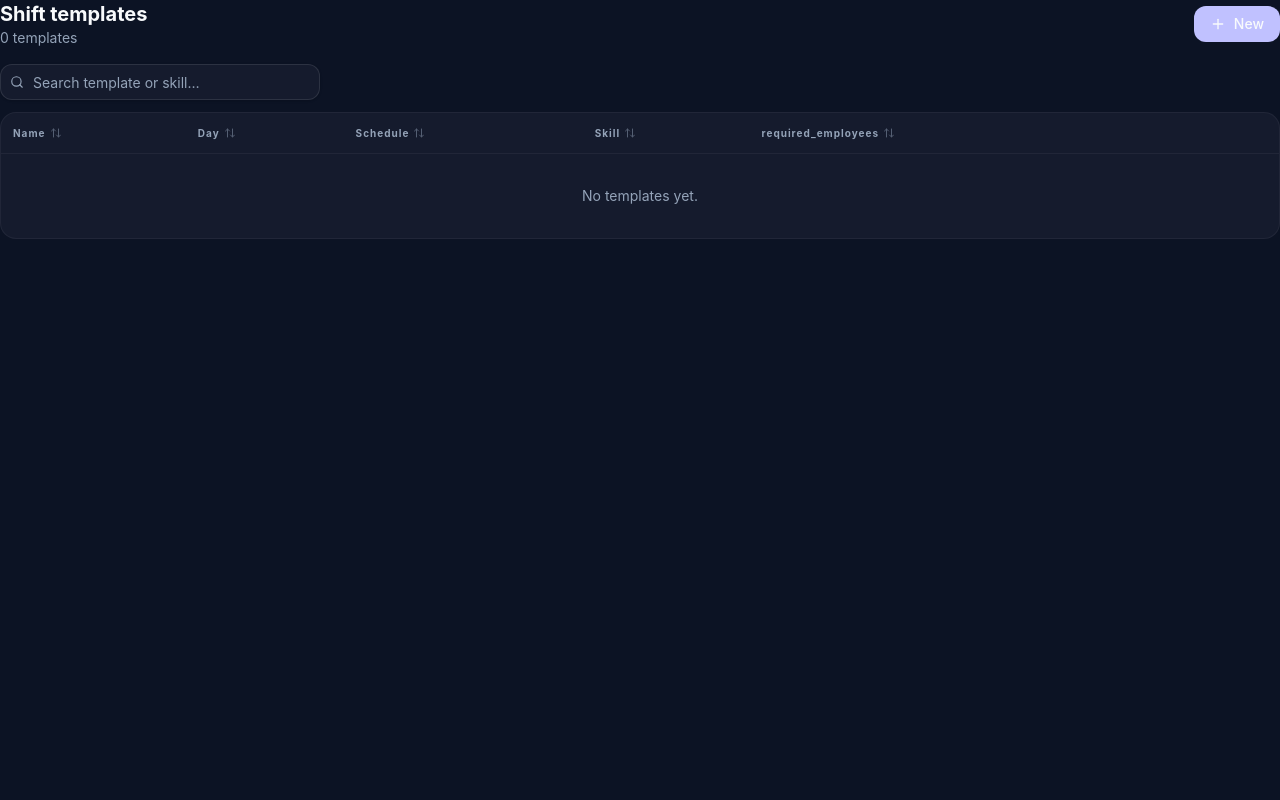
Test case: TemplatesPage › crea un template end-to-end
Check: the text "No templates yet." is shown, box [1, 153, 1279, 238]
Click the button with test id "new-template-btn".
click(1237, 24)  # box [1194, 6, 1279, 42]
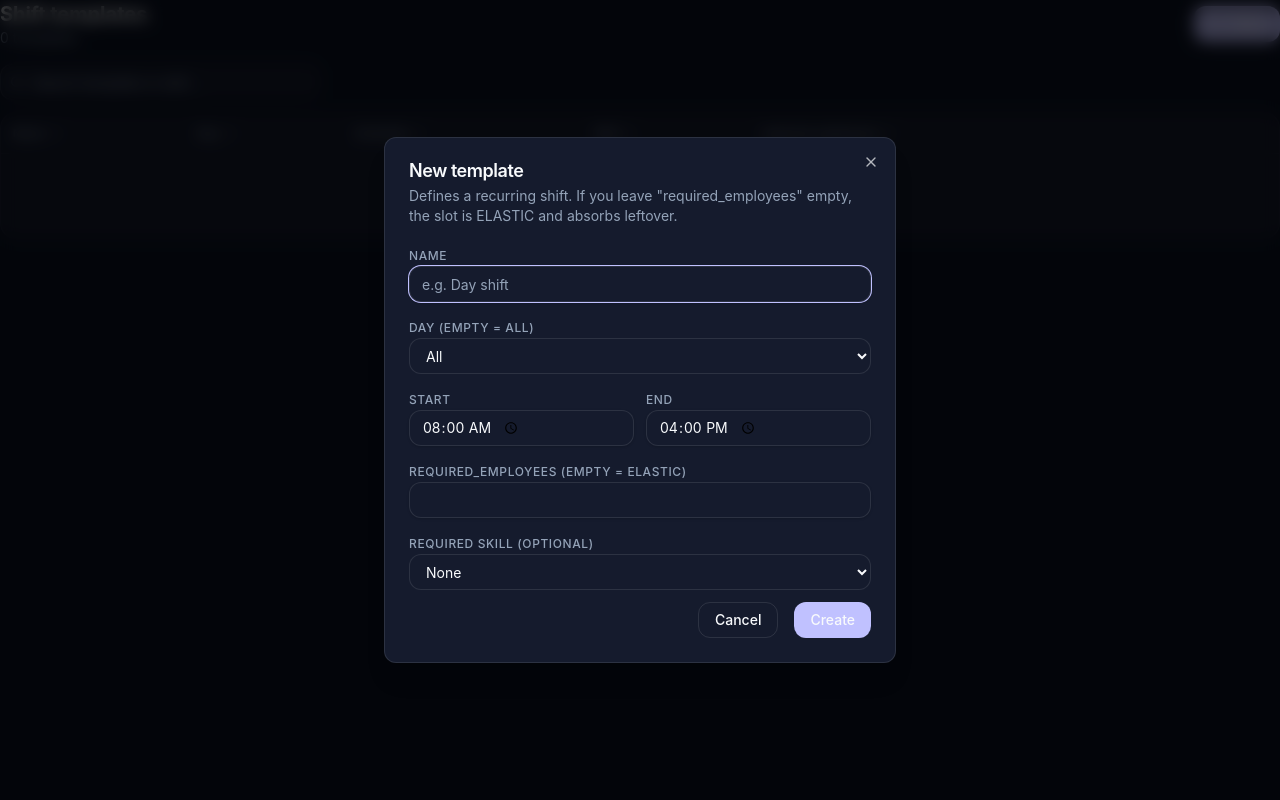
Type "Apertura" into the field with test id "t-name-input".
click(640, 284); type("Apertura")  # box [409, 266, 871, 302]
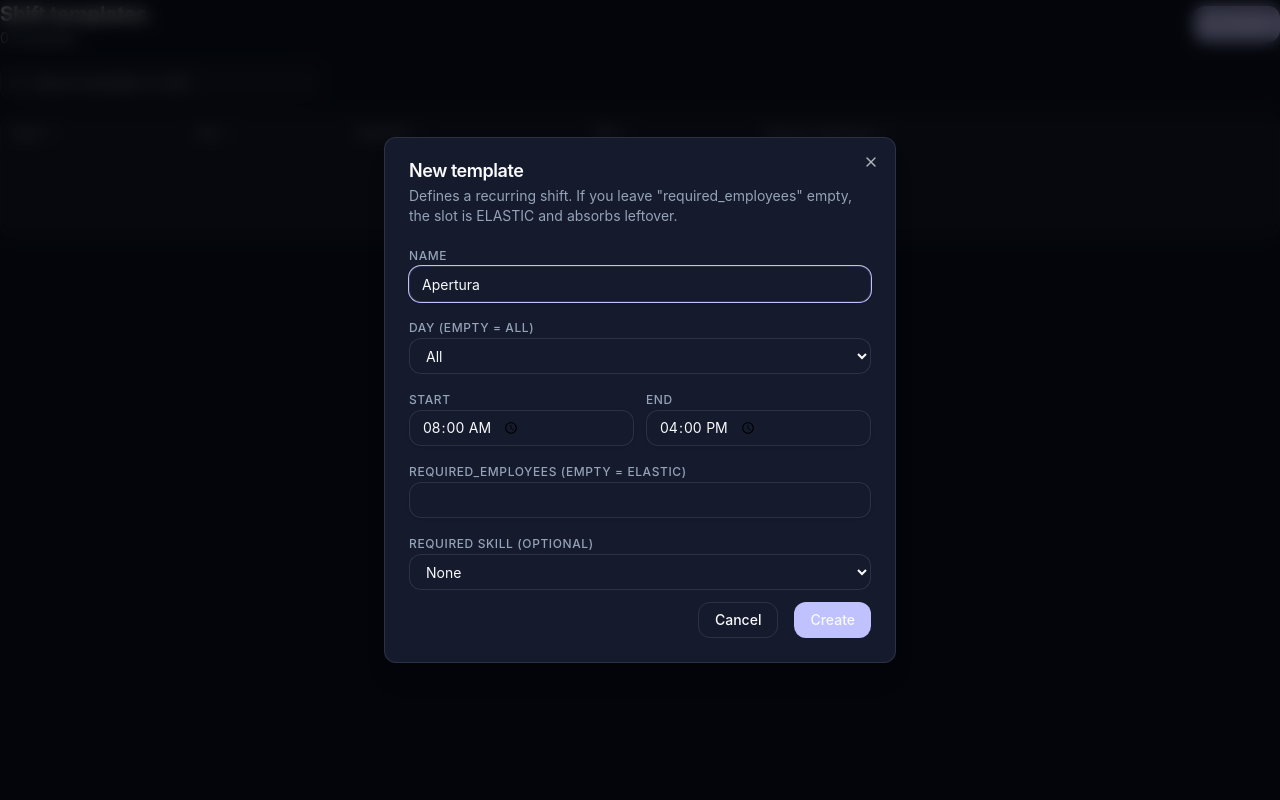
Select "Mon" in the dropdown with test id "t-day-select" at (640,356), box [409, 338, 871, 374]
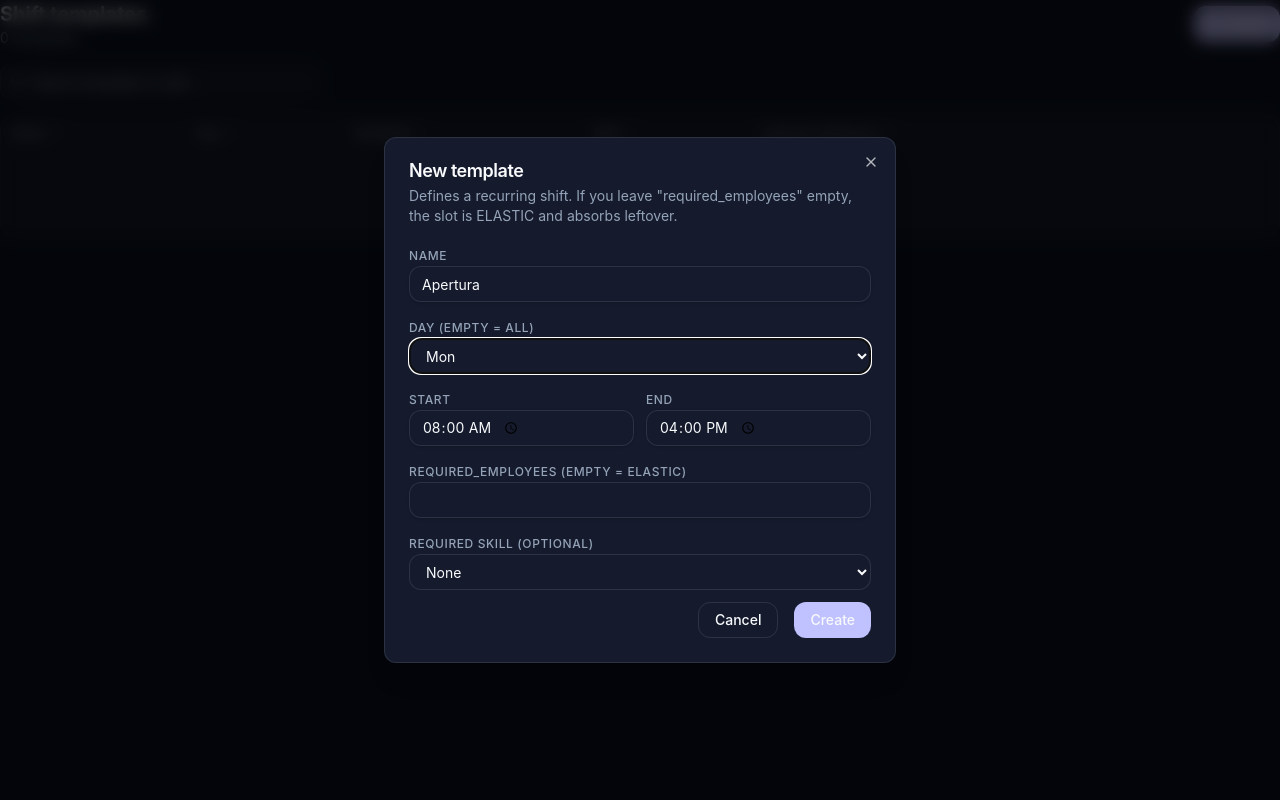
Type "3" into the number field with test id "t-required-input".
click(640, 500); type("3")  # box [409, 482, 871, 518]
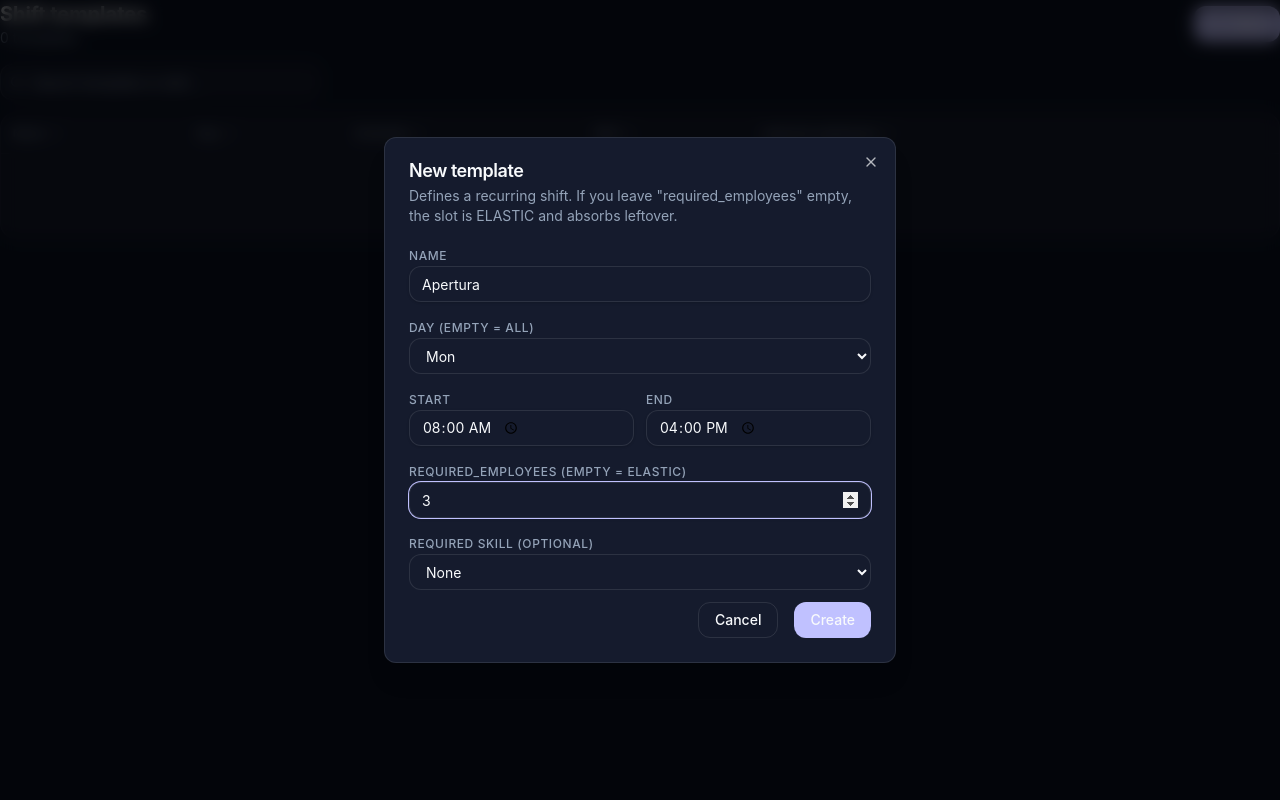
Click the button with test id "t-submit".
click(833, 620)  # box [794, 602, 871, 638]
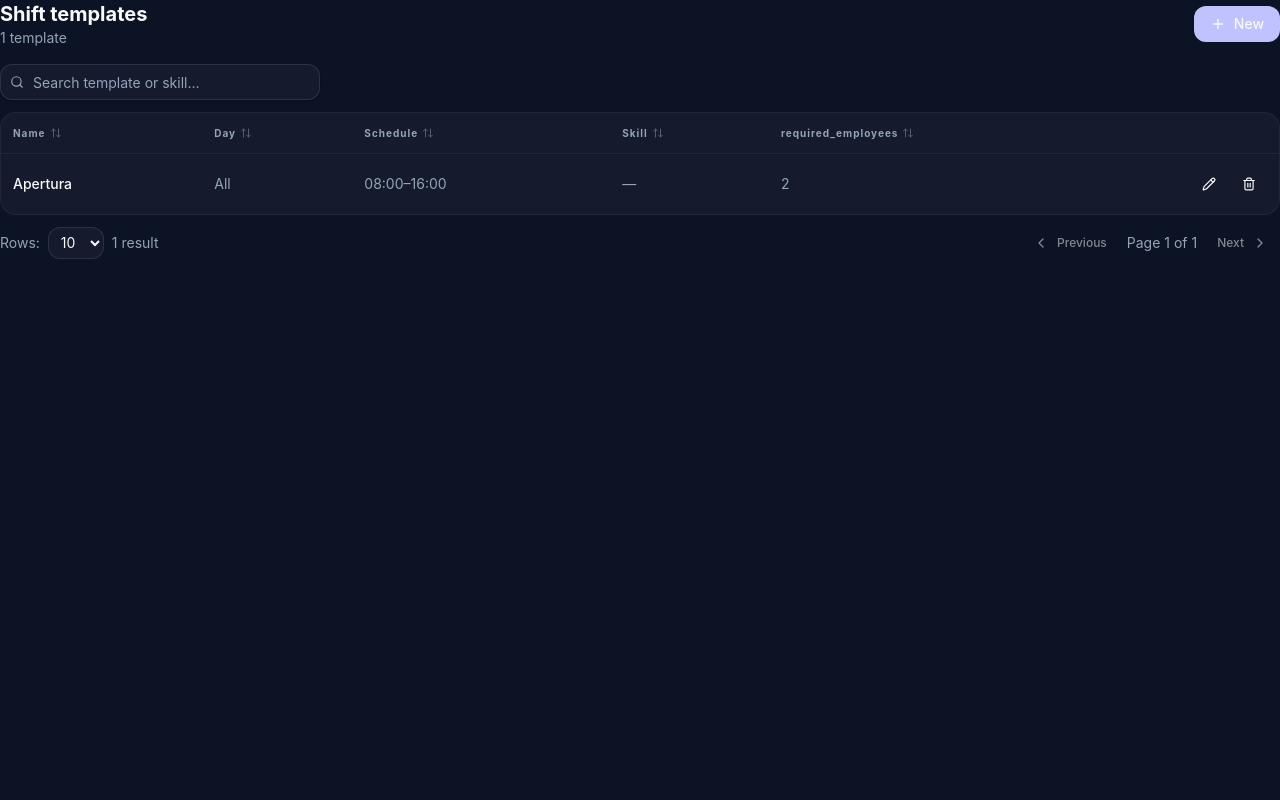
Check: the text "Apertura" is shown, box [13, 174, 72, 192]
